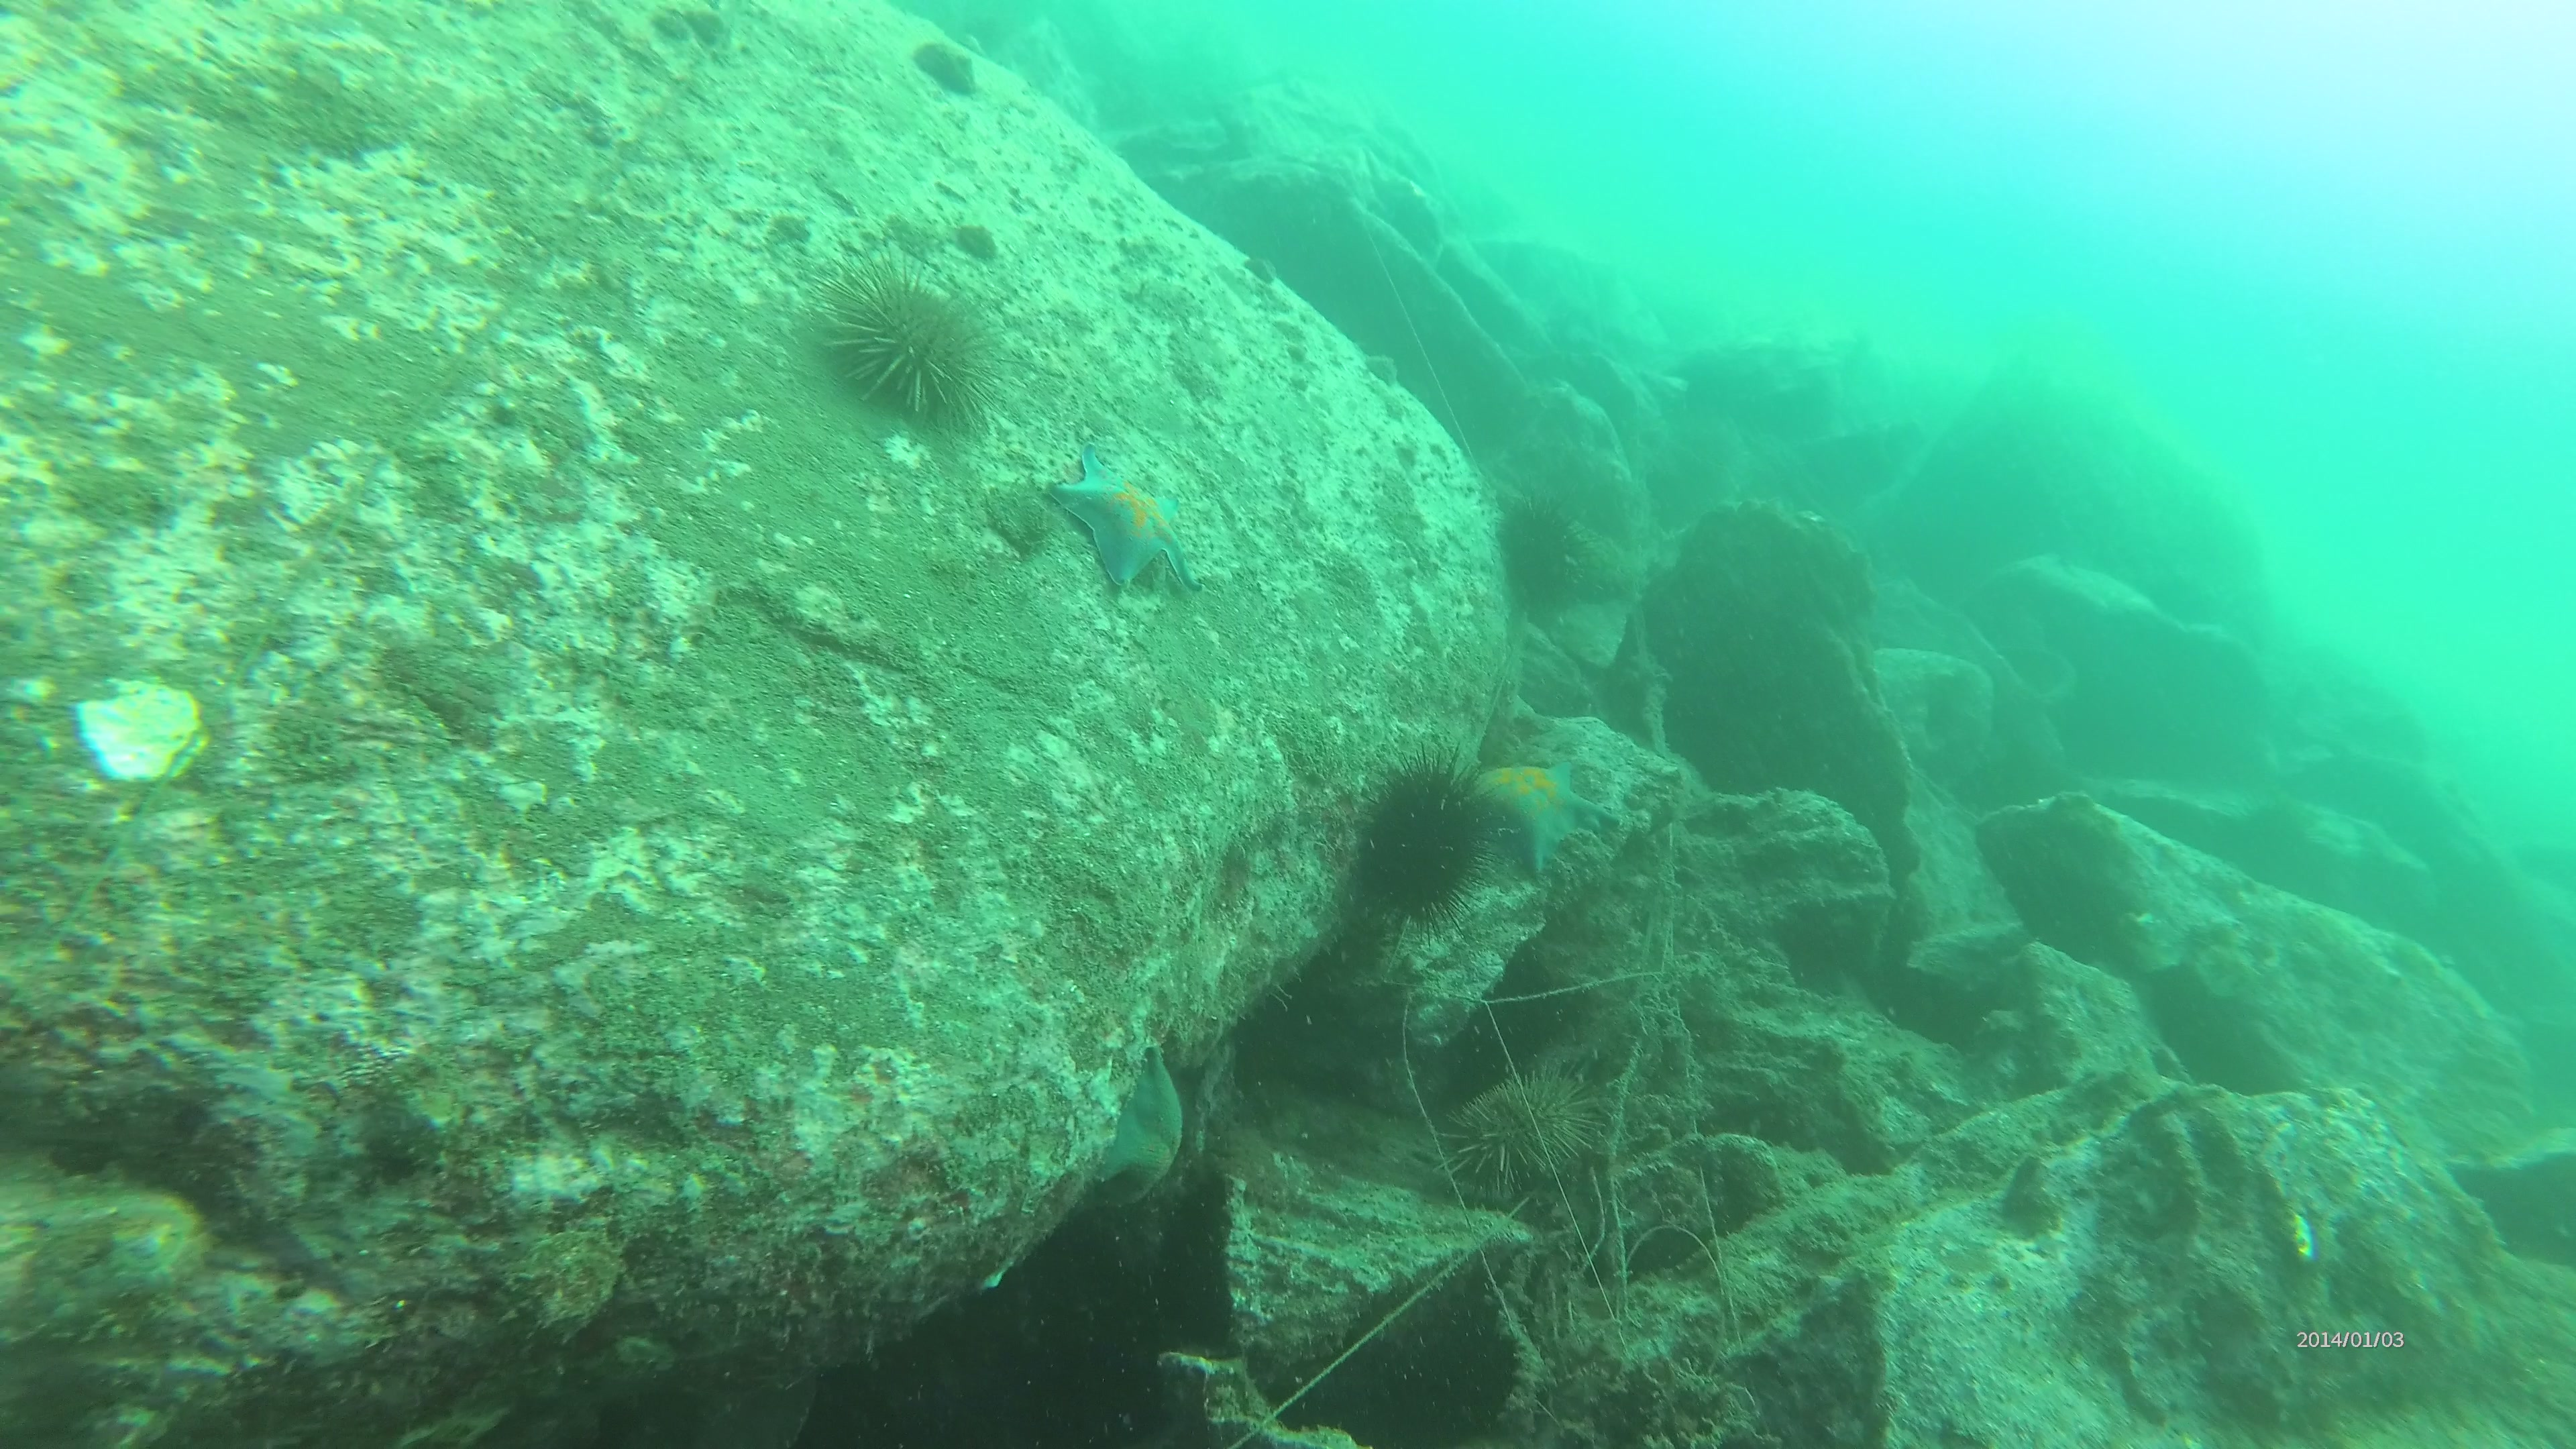echinus: (816, 257, 1010, 426), (1346, 750, 1511, 920), (1491, 492, 1596, 602)
starfish: (1033, 441, 1207, 602), (1470, 743, 1603, 878), (1106, 1054, 1191, 1201)
